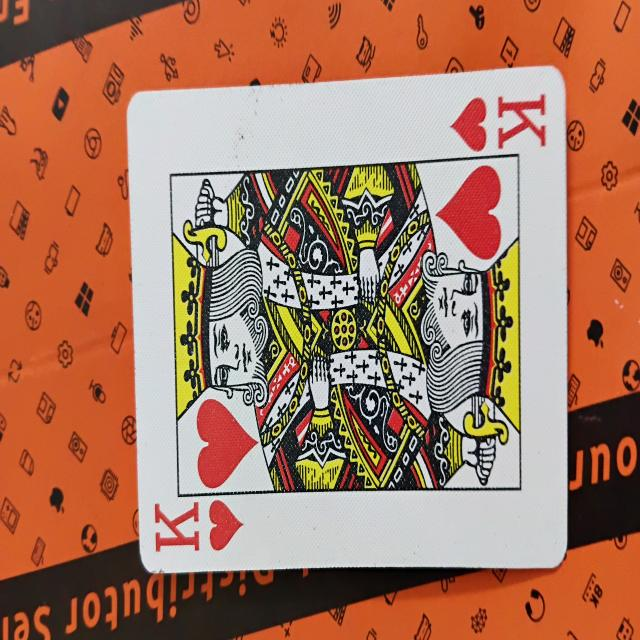KH: (125, 82, 569, 569)
